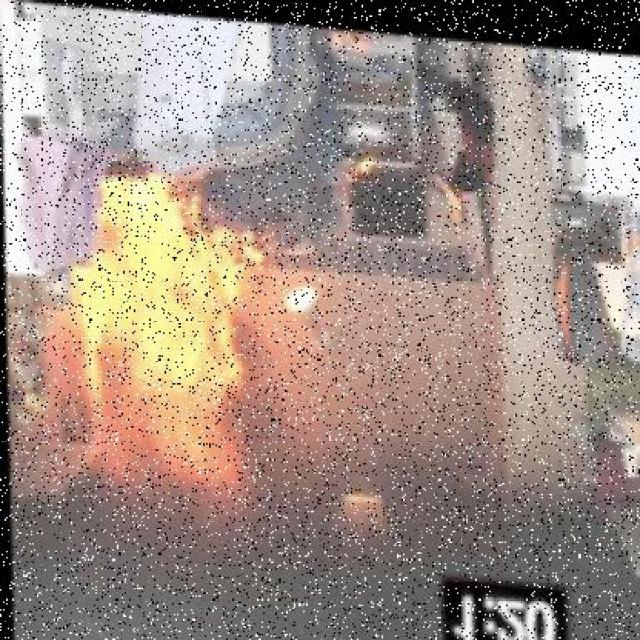fire: (34, 163, 280, 522)
